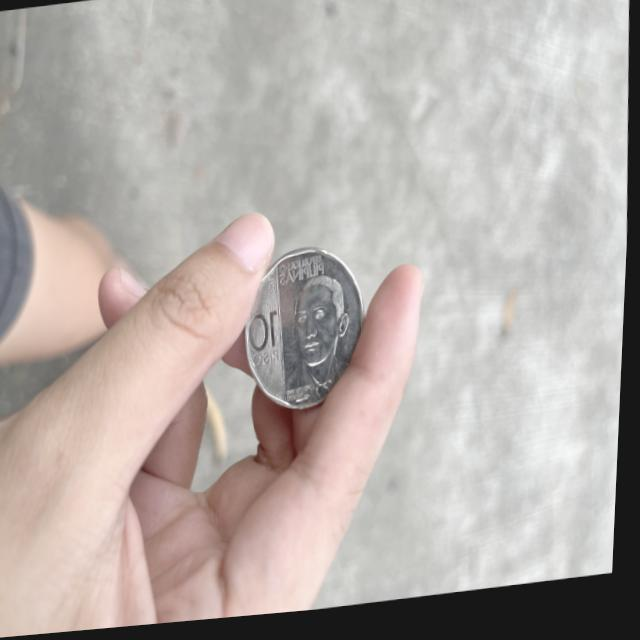10_New_Front: (243, 305, 289, 387)
